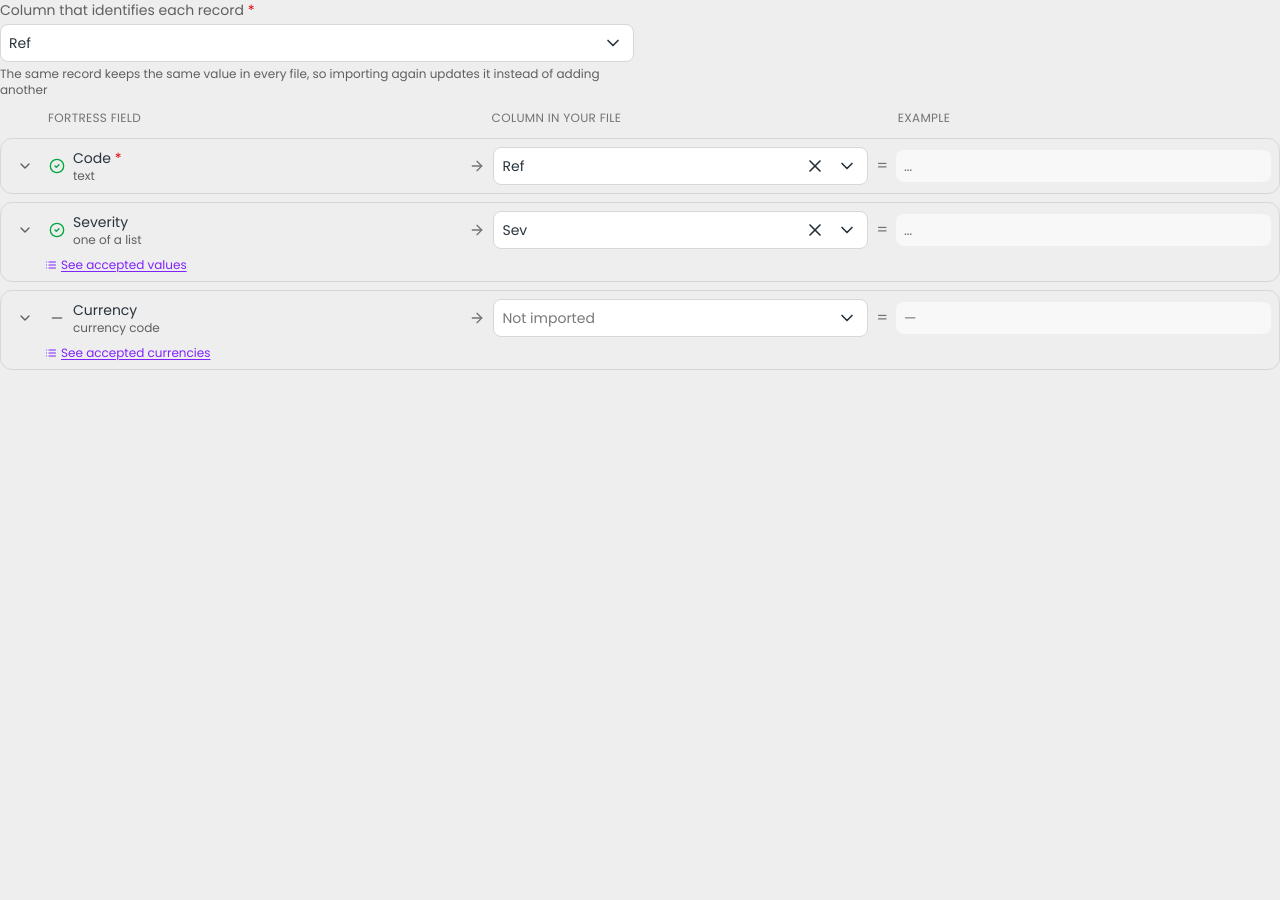
Test: fields that take one of a list › lists currencies by code with a search
Click the button "See accepted currencies" at (128, 353), box 45,345 -> 210,361
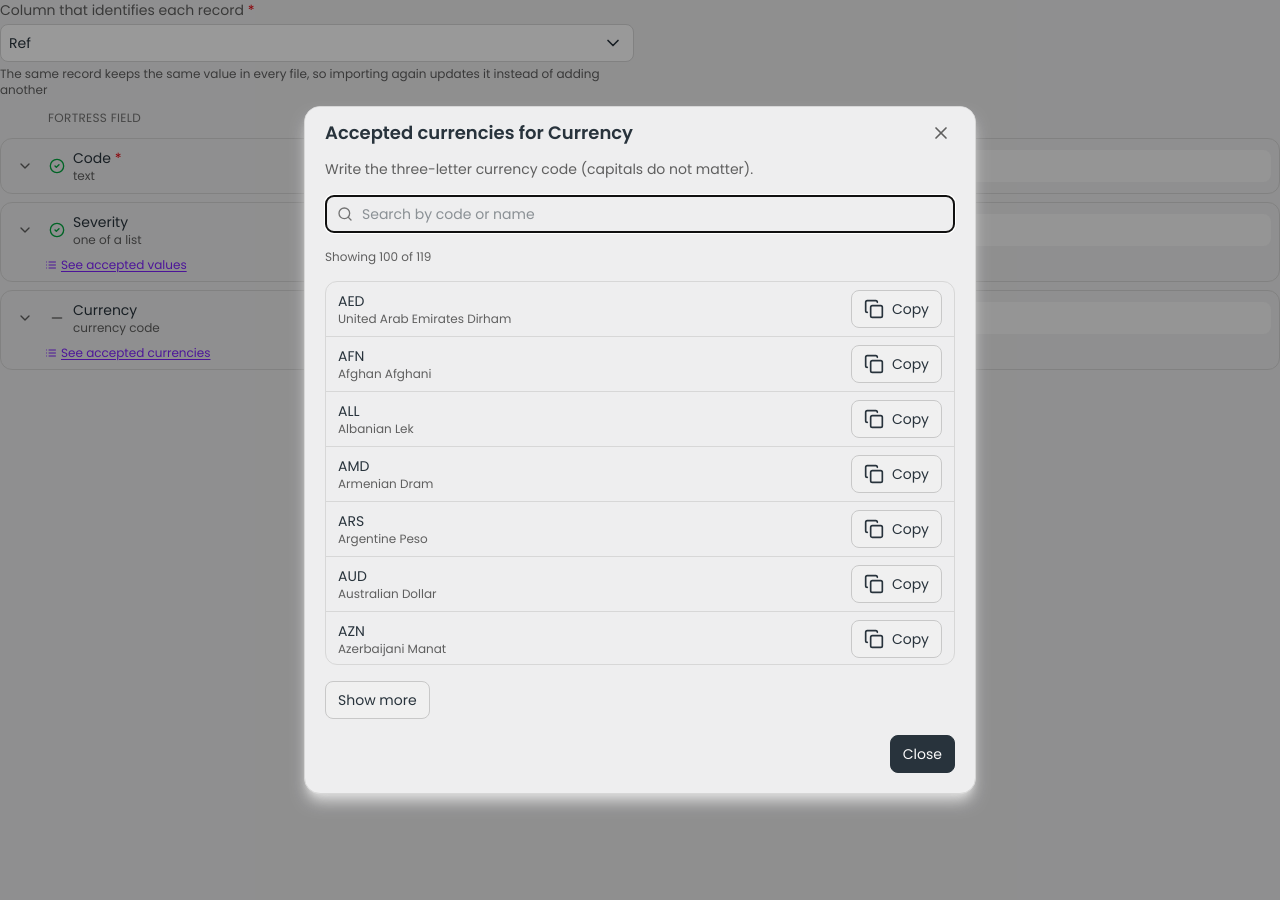
Type "pound sterling" into the search field named "Search the accepted values" at (640, 214), box 325,195 -> 955,233
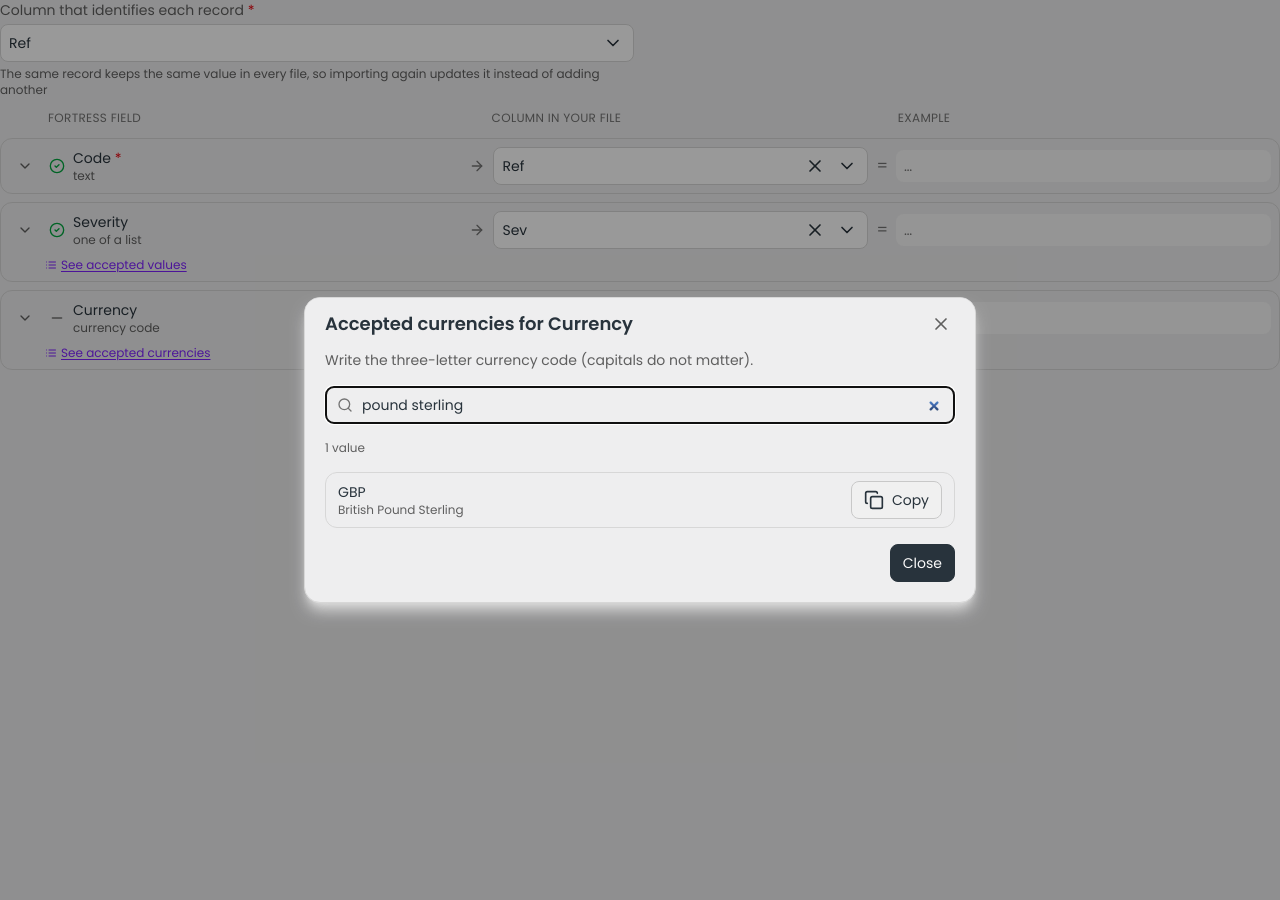
Expected: the text "GBP" is shown, 338,482 -> 366,502
Expected: the button with aria-label "Copy GBP" is shown, 851,481 -> 942,519
